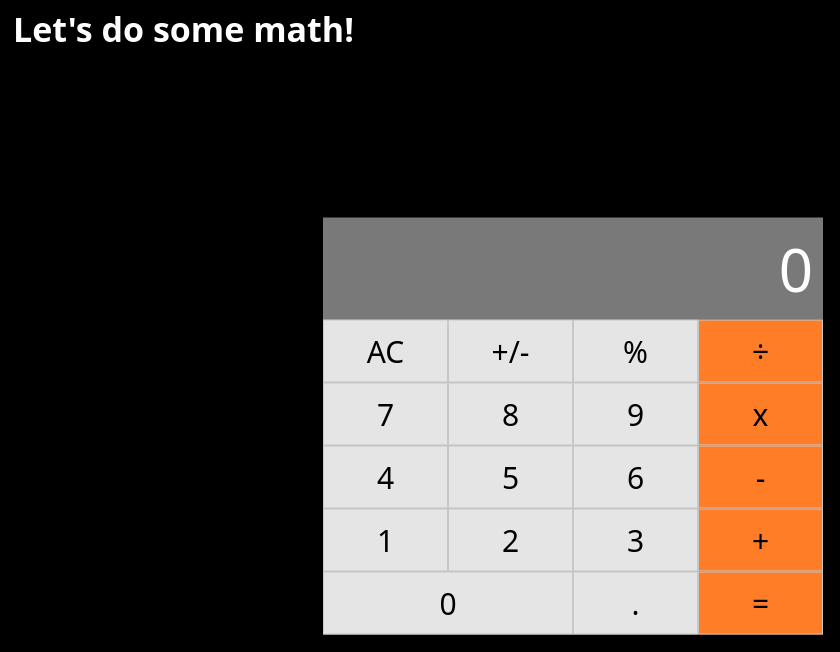
Calculator tests › simulate user interaction with the calculator: 3
Click the button "3" at (636, 540), box [573, 508, 698, 572]
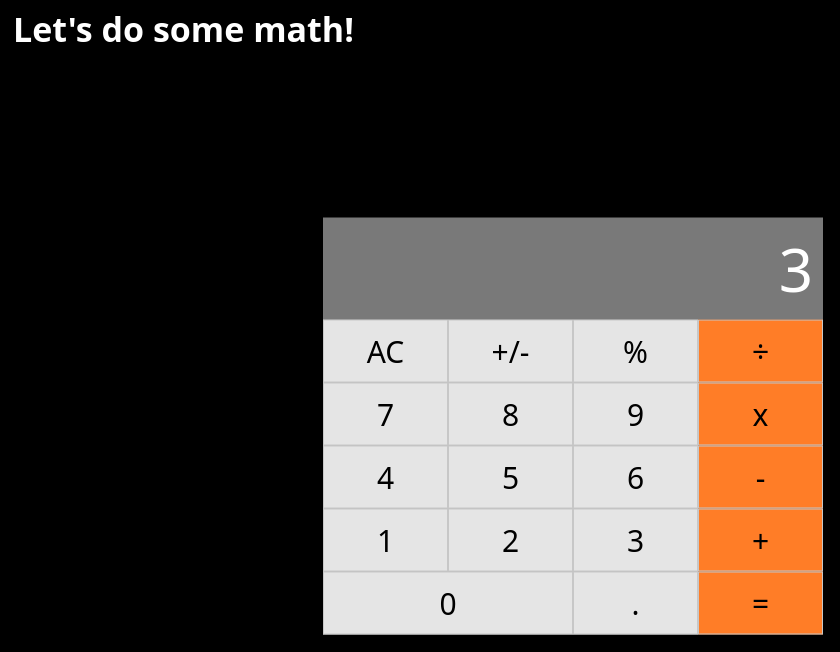
Expected: the text "3" is shown, [323, 218, 823, 320]
